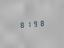eight: (18, 21, 24, 28), (39, 19, 45, 26)
nine: (32, 19, 38, 27)
one: (25, 20, 31, 28)
